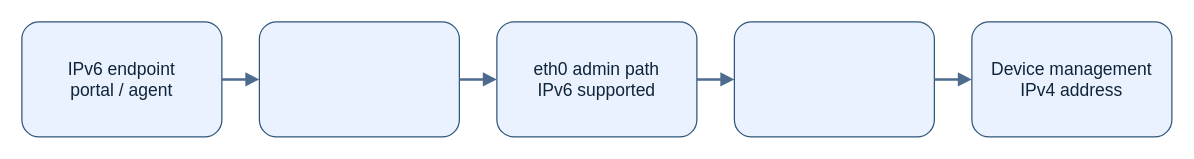
This 1194x159 diagram has some shape labels left out. Here are the shapes that lost their labels. From the top down, the box of each, then its label:
(258, 21, 459, 137): eth1 portal path IPv6 supported
(733, 21, 934, 137): Inventory discovery requires IPv4
